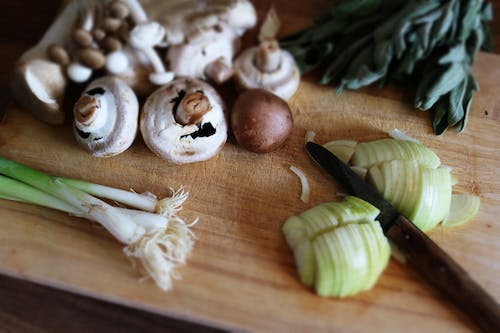knife: (303, 140, 500, 333)
